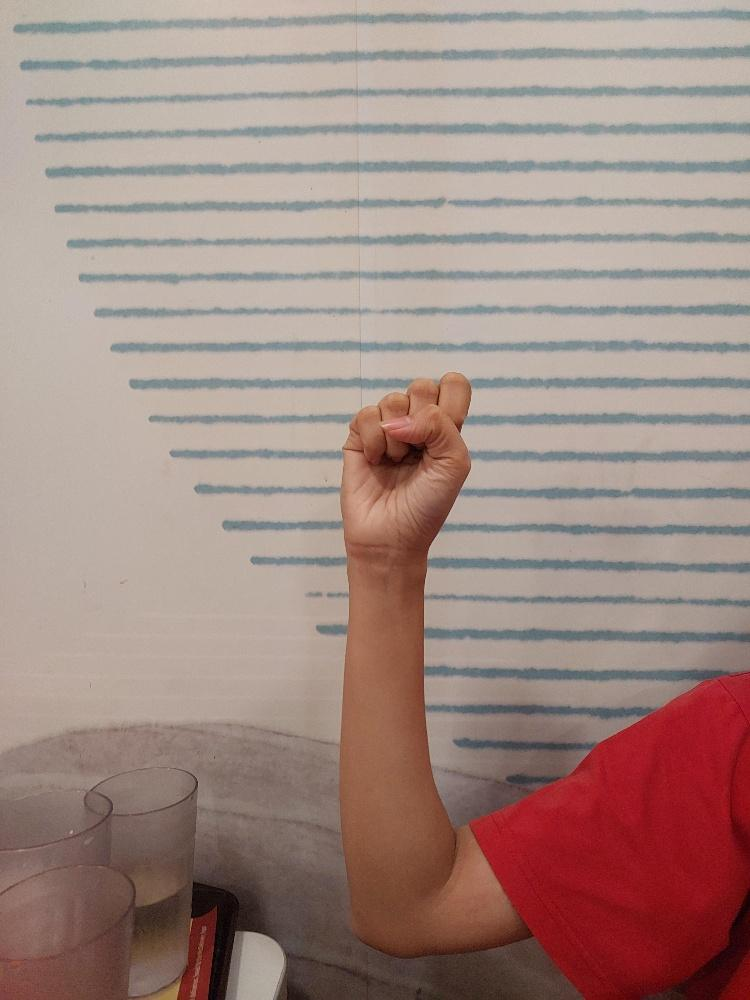s: (336, 369, 477, 553)
